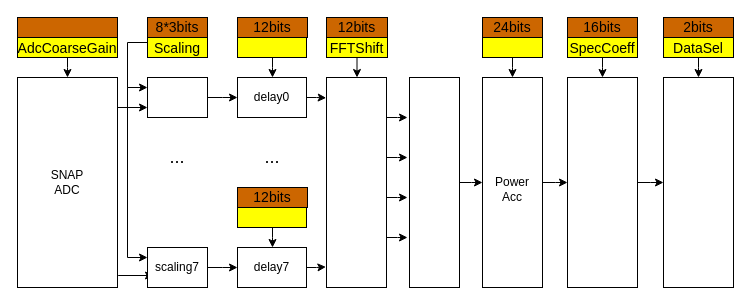
Image size: 751x305. Some labels were removed from this diagram. Here are the shapes that lost their labels. From the top down, the centre of each, then its label:
(67,27): 32bits
(271,47): AdcDelay0
(512,47): AccLen
(177,97): scaling0
(356,182): PFB
(434,182): Power Sum
(602,182): Multiplier
(698,182): Data Selection (4*16bit)
(271,217): AdcDelay7
